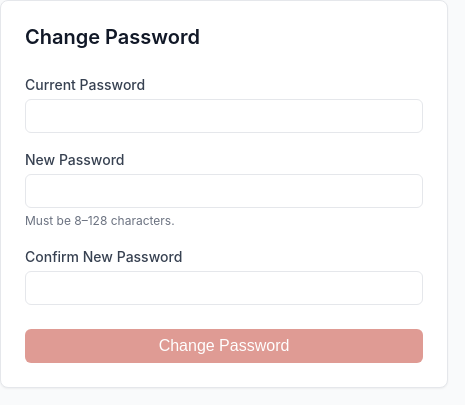
it: PasswordChangeForm › enables submit button when form is valid
Type "currentPass1" into the password field with id "current-password" at (224, 116), box [25,99,423,133]
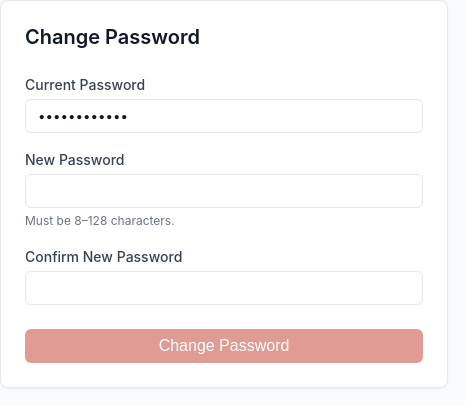
Type "newPassword123" into the password field with id "new-password" at (224, 191), box [25,174,423,208]
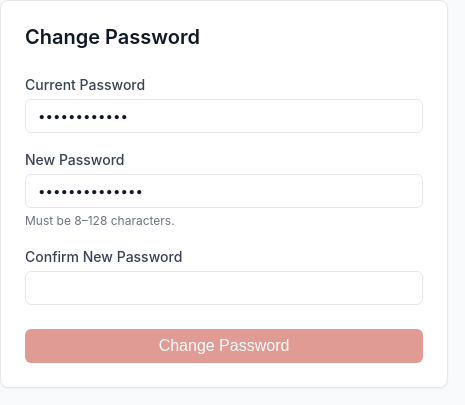
Type "newPassword123" into the password field with id "confirm-password" at (224, 288), box [25,271,423,305]
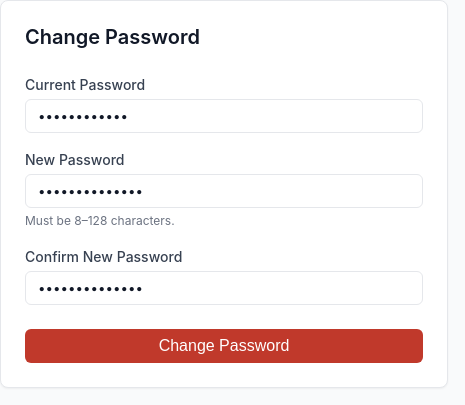
Check: the submit button is enabled, box [25,329,423,363]
